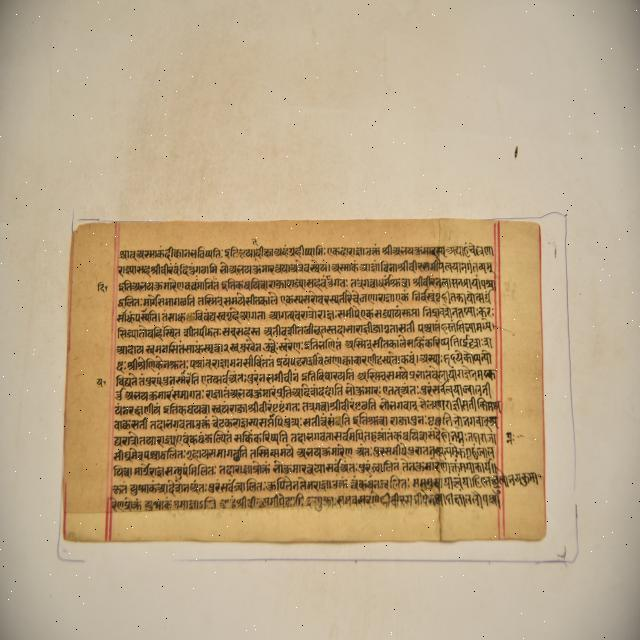text_paragraph: (64, 223, 545, 544)
